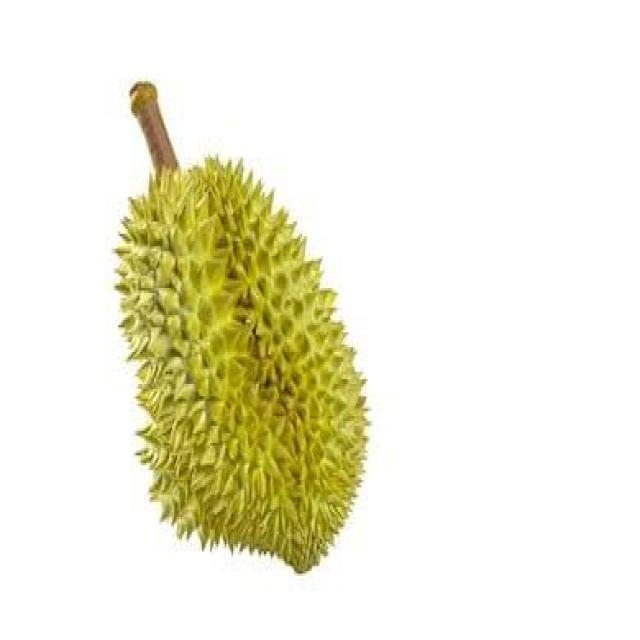immature: (111, 153, 369, 579)
